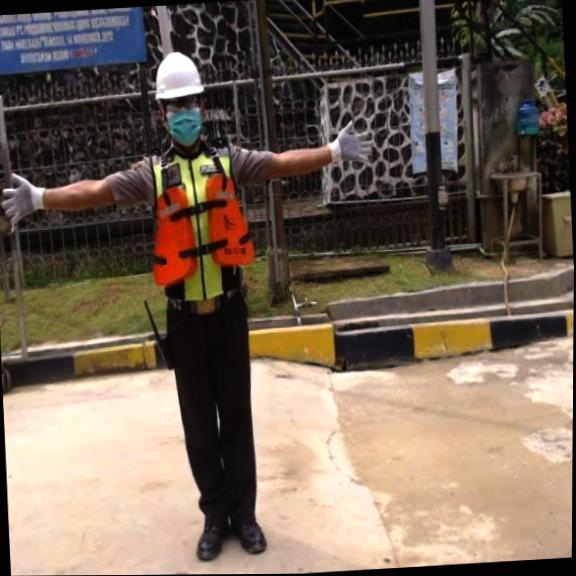safety_vest: (146, 176, 260, 278)
